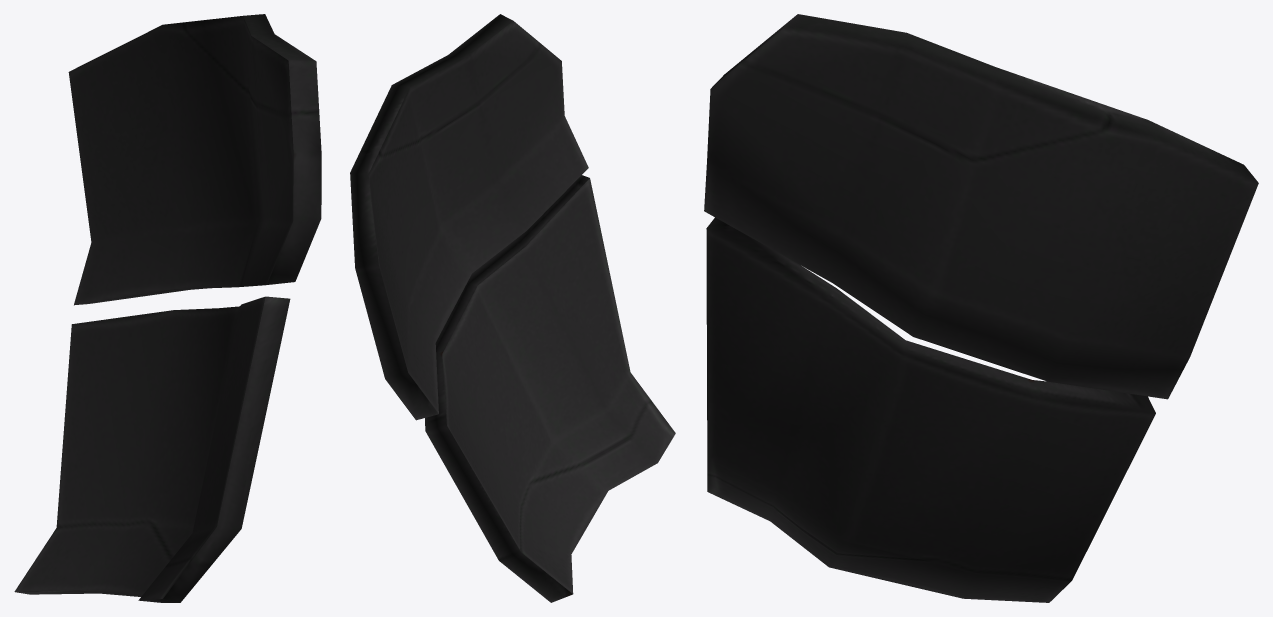
The model's file is pinger_plate_motor_right.dae.
The picture shows the model from 3 angles, left to right: view 1: azimuth 30°, elevation 25°; view 2: azimuth 150°, elevation 25°; view 3: azimuth 270°, elevation 25°; orthographic projection. The views are drawn at different scales.
Parts seen in each view (by area): view 1: pinger_plate_motor_right; view 2: pinger_plate_motor_right; view 3: pinger_plate_motor_right.
Part boxes in pixels (box(x1,y1,x2,y2)): pinger_plate_motor_right: box(14, 14, 321, 602); pinger_plate_motor_right: box(350, 14, 675, 602); pinger_plate_motor_right: box(704, 14, 1258, 602).
Bounding box in the file's own units: 0.5796 × 1.02 × 1.37.
1 material, 1 textured.
